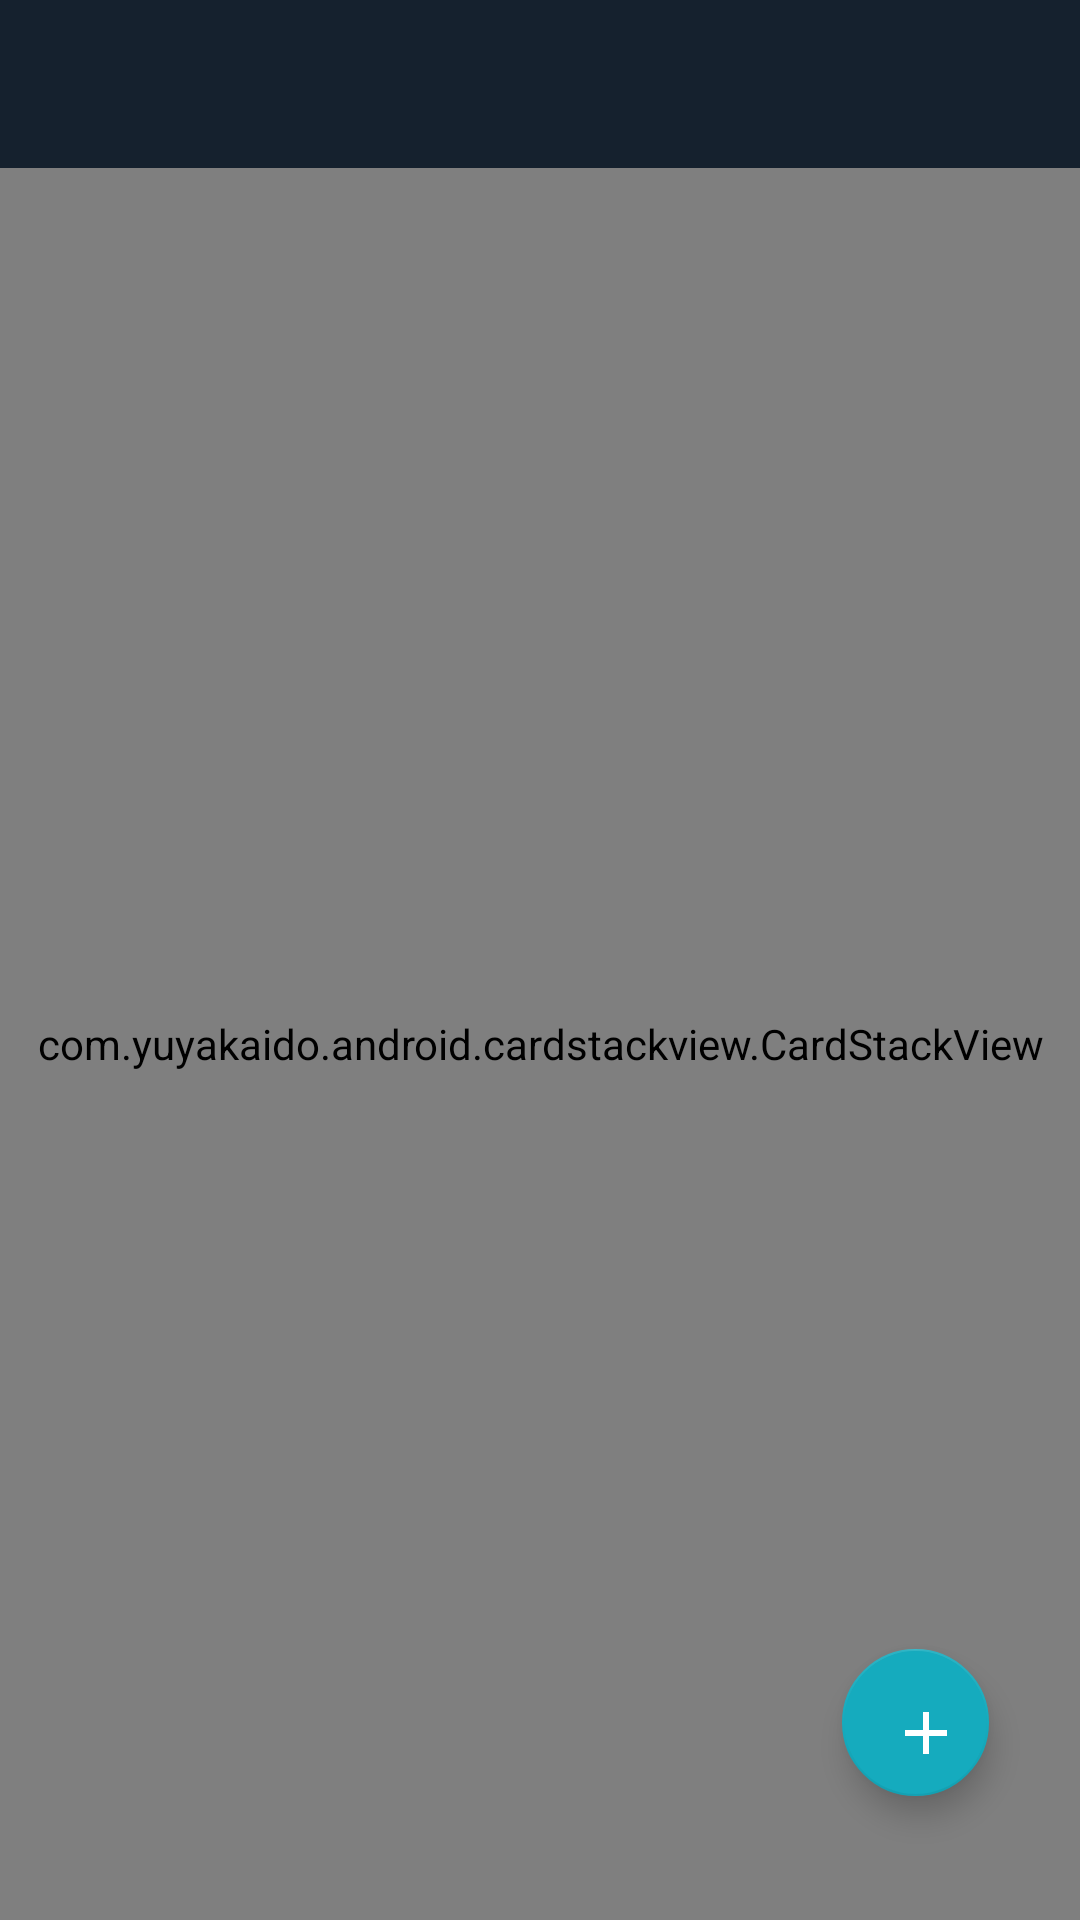

Where icons sit on this 1080 x 1920 app screen, as Rect(x1, y1, x2, y2):
add: Rect(842, 1649, 989, 1796)
